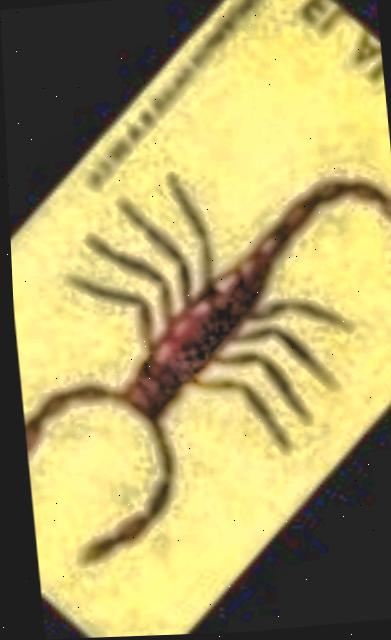El Alacran: (8, 0, 391, 638)
